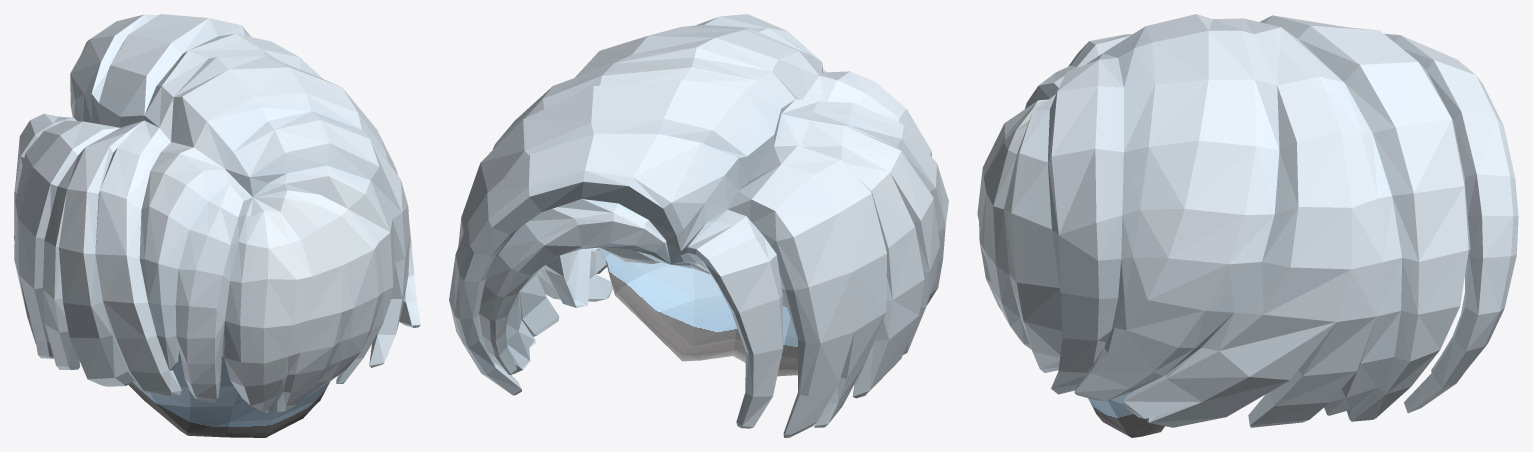
The model's file is CharSkyKid_Hair_StyleCurtain.glb.
3 views of the same model, side by side, from view 1: azimuth 30°, elevation 25°; view 2: azimuth 150°, elevation 25°; view 3: azimuth 270°, elevation 25° (orthographic). The views are drawn at different scales.
Parts seen in each view (by area): view 1: CharSkyKid_Hair_StyleCurtain; view 2: CharSkyKid_Hair_StyleCurtain; view 3: CharSkyKid_Hair_StyleCurtain.
Part boxes in pixels (x1,y1,x2,y2): CharSkyKid_Hair_StyleCurtain: (14,14,420,437); CharSkyKid_Hair_StyleCurtain: (449,14,948,437); CharSkyKid_Hair_StyleCurtain: (977,14,1518,437).
Size of the model in its own units: 2.86 by 2.69 by 3.37.
1 material, 1 textured.
